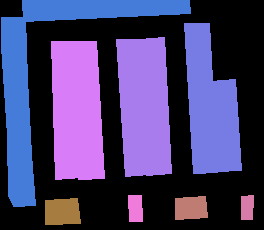parkingspot: (1, 17, 35, 206), (184, 23, 217, 173), (71, 41, 104, 179), (139, 37, 171, 175), (116, 39, 148, 176), (51, 41, 81, 179), (22, 0, 190, 21), (210, 79, 241, 171), (45, 198, 80, 224), (175, 196, 207, 219), (128, 195, 142, 221), (241, 195, 253, 219)
